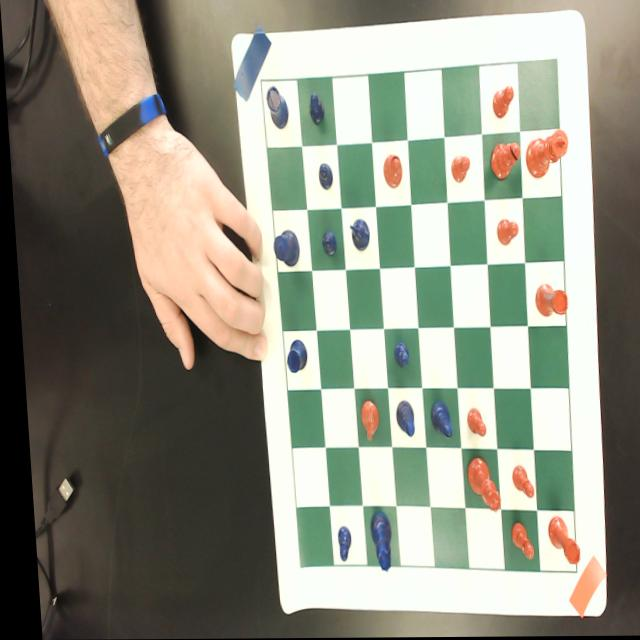B: (425, 401, 447, 439), (389, 401, 410, 439)
K: (269, 230, 297, 268)
N: (346, 214, 368, 256)
P: (329, 526, 346, 564), (306, 92, 324, 127), (388, 341, 405, 368), (316, 161, 331, 191), (319, 230, 334, 258)
Q: (362, 513, 386, 573)
R: (263, 86, 289, 130), (280, 339, 304, 374)
b: (485, 140, 520, 180), (380, 153, 402, 189)
cb: (260, 61, 569, 574)
k: (521, 130, 568, 180)
n: (354, 399, 376, 443)
p: (502, 521, 528, 562), (489, 85, 514, 120), (505, 466, 528, 500), (493, 219, 516, 248), (448, 154, 469, 184), (461, 408, 481, 438)
q: (459, 458, 494, 513)
r: (539, 516, 573, 568), (530, 283, 564, 319)
